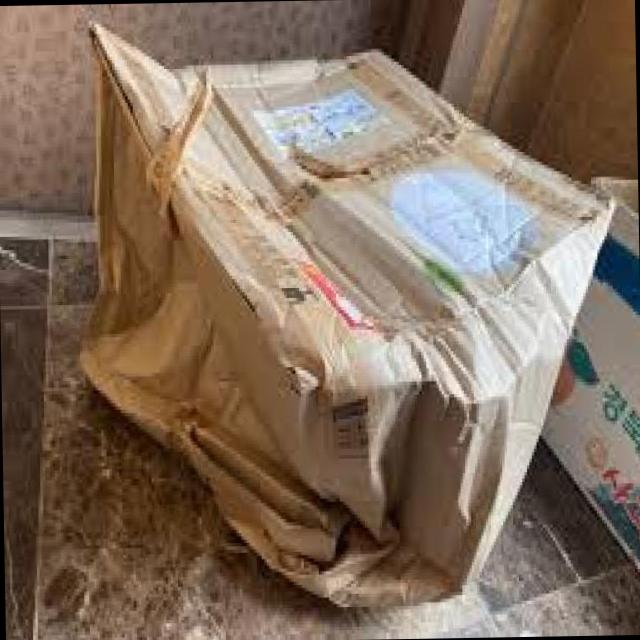box: (76, 18, 615, 612)
crushed: (76, 20, 539, 607)
